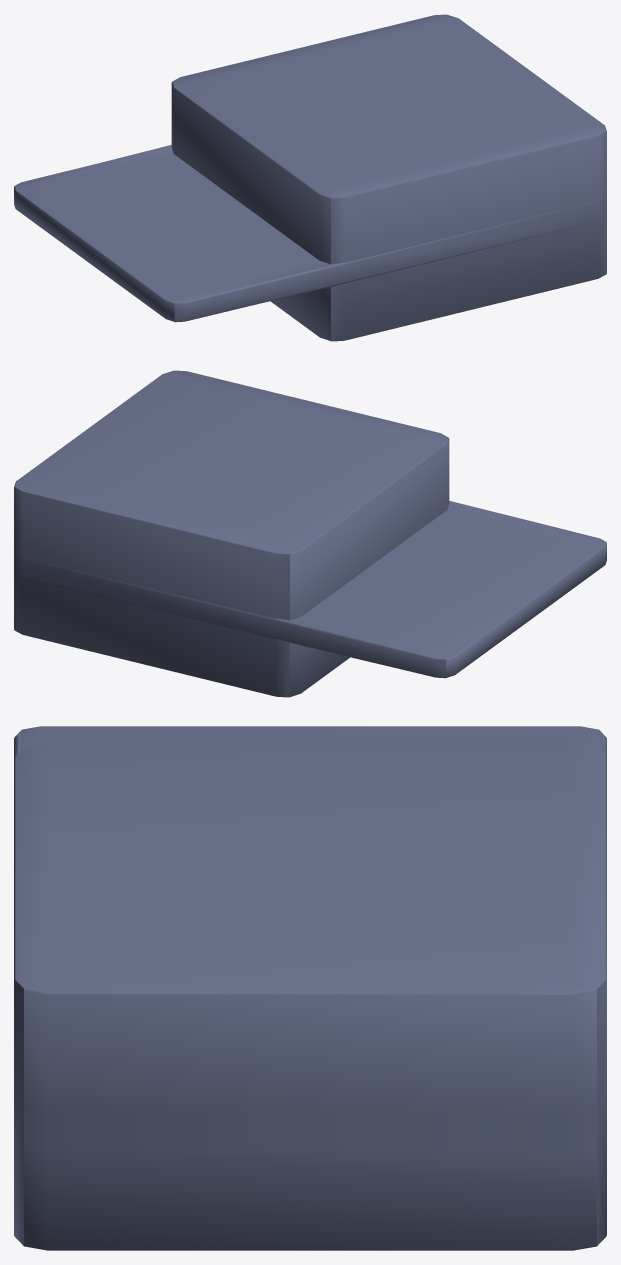
File: tepsi_dagitici.fbx
3 renders of one model, top to bottom at view 1: azimuth 30°, elevation 25°; view 2: azimuth 150°, elevation 25°; view 3: azimuth 270°, elevation 25°, orthographic. The views are drawn at different scales.
Parts seen in each view (by area): view 1: Cube; view 2: Cube; view 3: Cube.
Part boxes in pixels (x1=…): Cube: x1=14, y1=14, x2=606, y2=341; Cube: x1=14, y1=370, x2=606, y2=697; Cube: x1=14, y1=726, x2=606, y2=1250.
Size of the model in its own units: 254 by 79.06 by 164.
